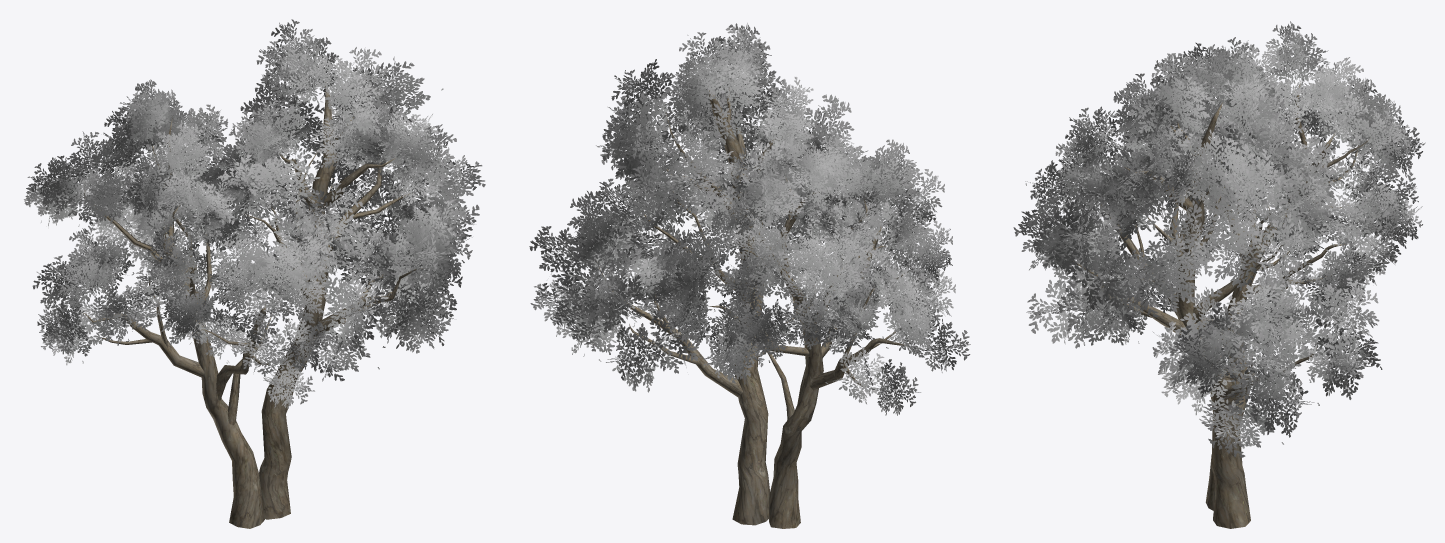
Rendered from SM_Com_Tre_34AL.fbx.
3 views of the same model, side by side, from view 1: azimuth 30°, elevation 25°; view 2: azimuth 150°, elevation 25°; view 3: azimuth 270°, elevation 25° (orthographic). The views are drawn at different scales.
Visible parts, largest first — view 1: SM_Com_Tre_34AL.mo; view 2: SM_Com_Tre_34AL.mo; view 3: SM_Com_Tre_34AL.mo.
Part boxes in pixels (x1,y1,x2,y2): SM_Com_Tre_34AL.mo: (24, 19, 485, 528); SM_Com_Tre_34AL.mo: (529, 23, 970, 528); SM_Com_Tre_34AL.mo: (1013, 21, 1425, 528).
Bounding box in the file's own units: 13.28 × 13.44 × 10.48.
